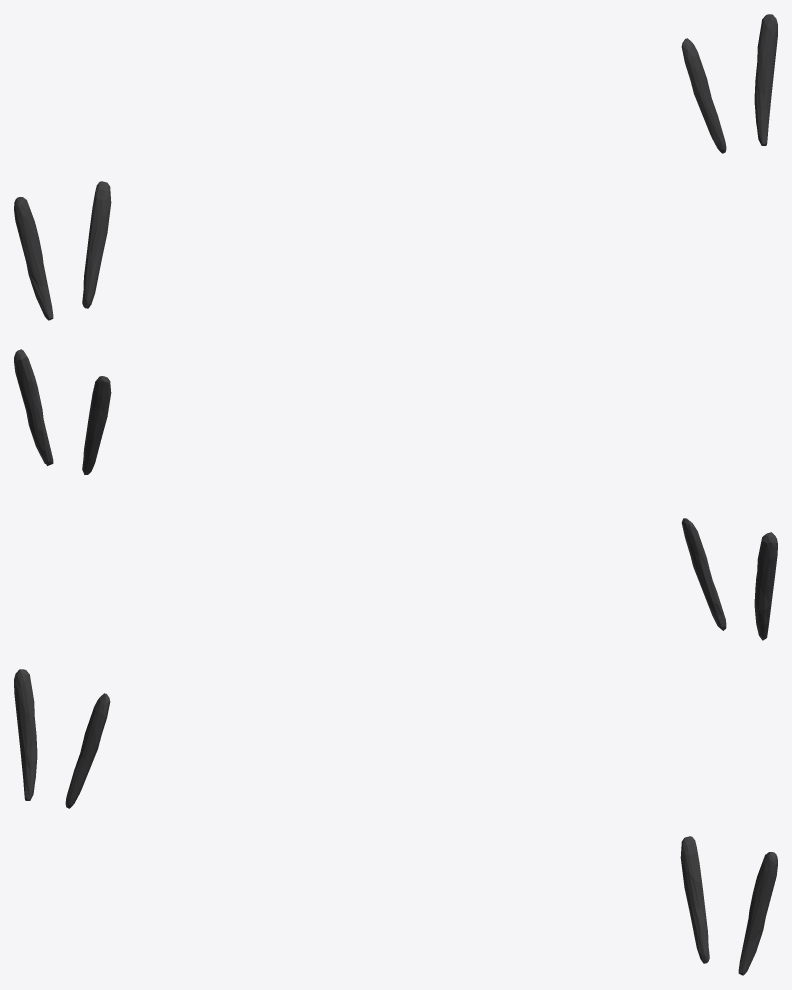
Rendered from lig_axial_palmar_FL.glb.
The picture shows the model from 3 angles, top to bottom: view 1: azimuth 30°, elevation 25°; view 2: azimuth 150°, elevation 25°; view 3: azimuth 330°, elevation 25°; orthographic projection.
Parts seen in each view (by area): view 1: lig_axial_palmar_FL; view 2: lig_axial_palmar_FL; view 3: lig_axial_palmar_FL.
Boxes of the visible parts, x1=… form: lig_axial_palmar_FL: x1=14, y1=14, x2=777, y2=320; lig_axial_palmar_FL: x1=14, y1=349, x2=777, y2=640; lig_axial_palmar_FL: x1=14, y1=669, x2=777, y2=975.
Bounding box in the file's own units: 0.00366 × 0.000545 × 0.000135.
1 material, 1 textured.
